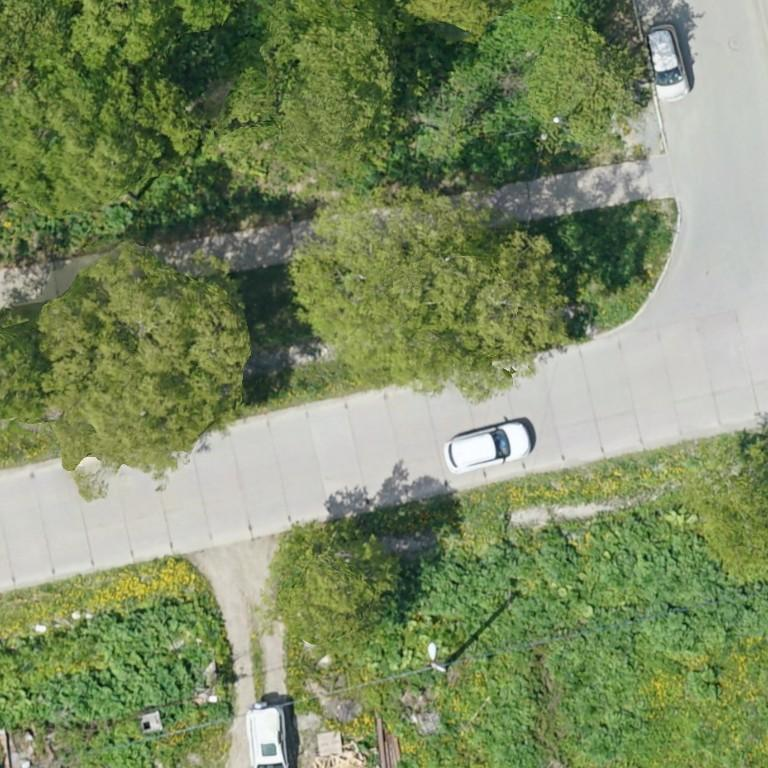hogweed: (551, 594, 767, 752), (0, 603, 196, 727), (406, 527, 580, 619), (590, 524, 734, 607)
